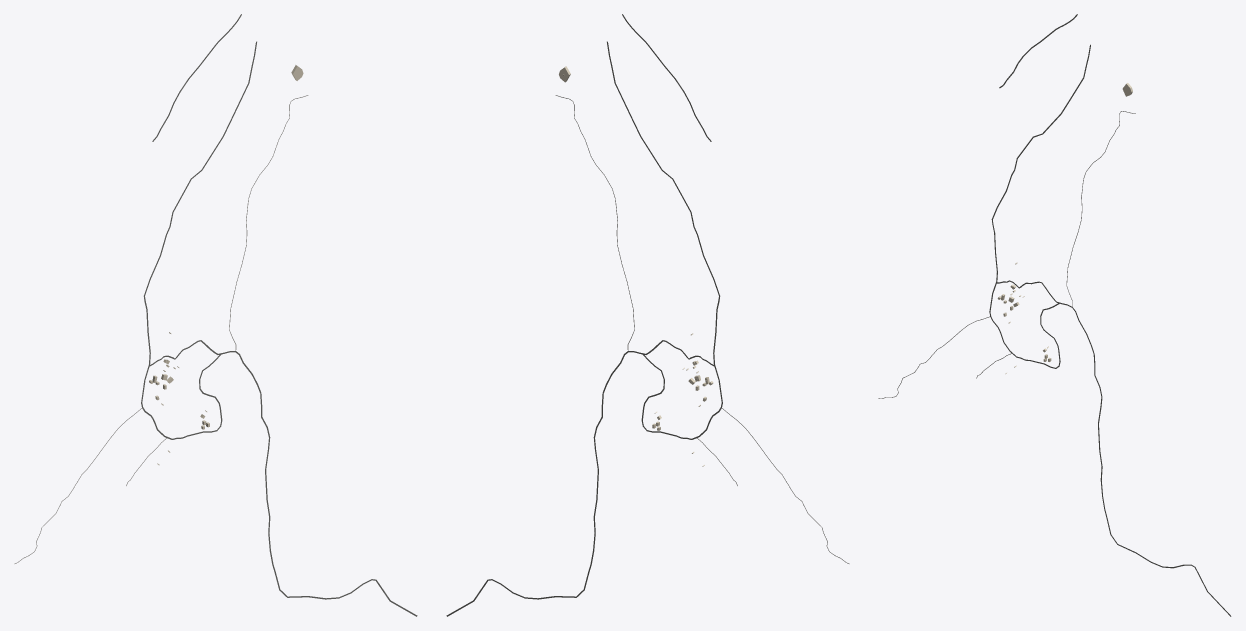
Rendered from historic-palestine-10_19_3517_3138.glb.
The picture shows the model from 3 angles, left to right: view 1: azimuth 30°, elevation 25°; view 2: azimuth 150°, elevation 25°; view 3: azimuth 330°, elevation 25°; orthographic projection. The views are drawn at different scales.
Visible parts, largest first — view 1: Road .004, Road .006; view 2: Road .004, Road .006; view 3: Road .004, Road .006.
Part boxes in pixels (x1,y1,x2,y2): Road .004: [149, 340, 417, 616]; Road .006: [141, 41, 256, 411]; Road .004: [446, 340, 714, 616]; Road .006: [607, 41, 722, 411]; Road .004: [996, 280, 1231, 616]; Road .006: [989, 44, 1090, 320].
Size of the model in its own units: 1007 by 1542 by 8.7.
